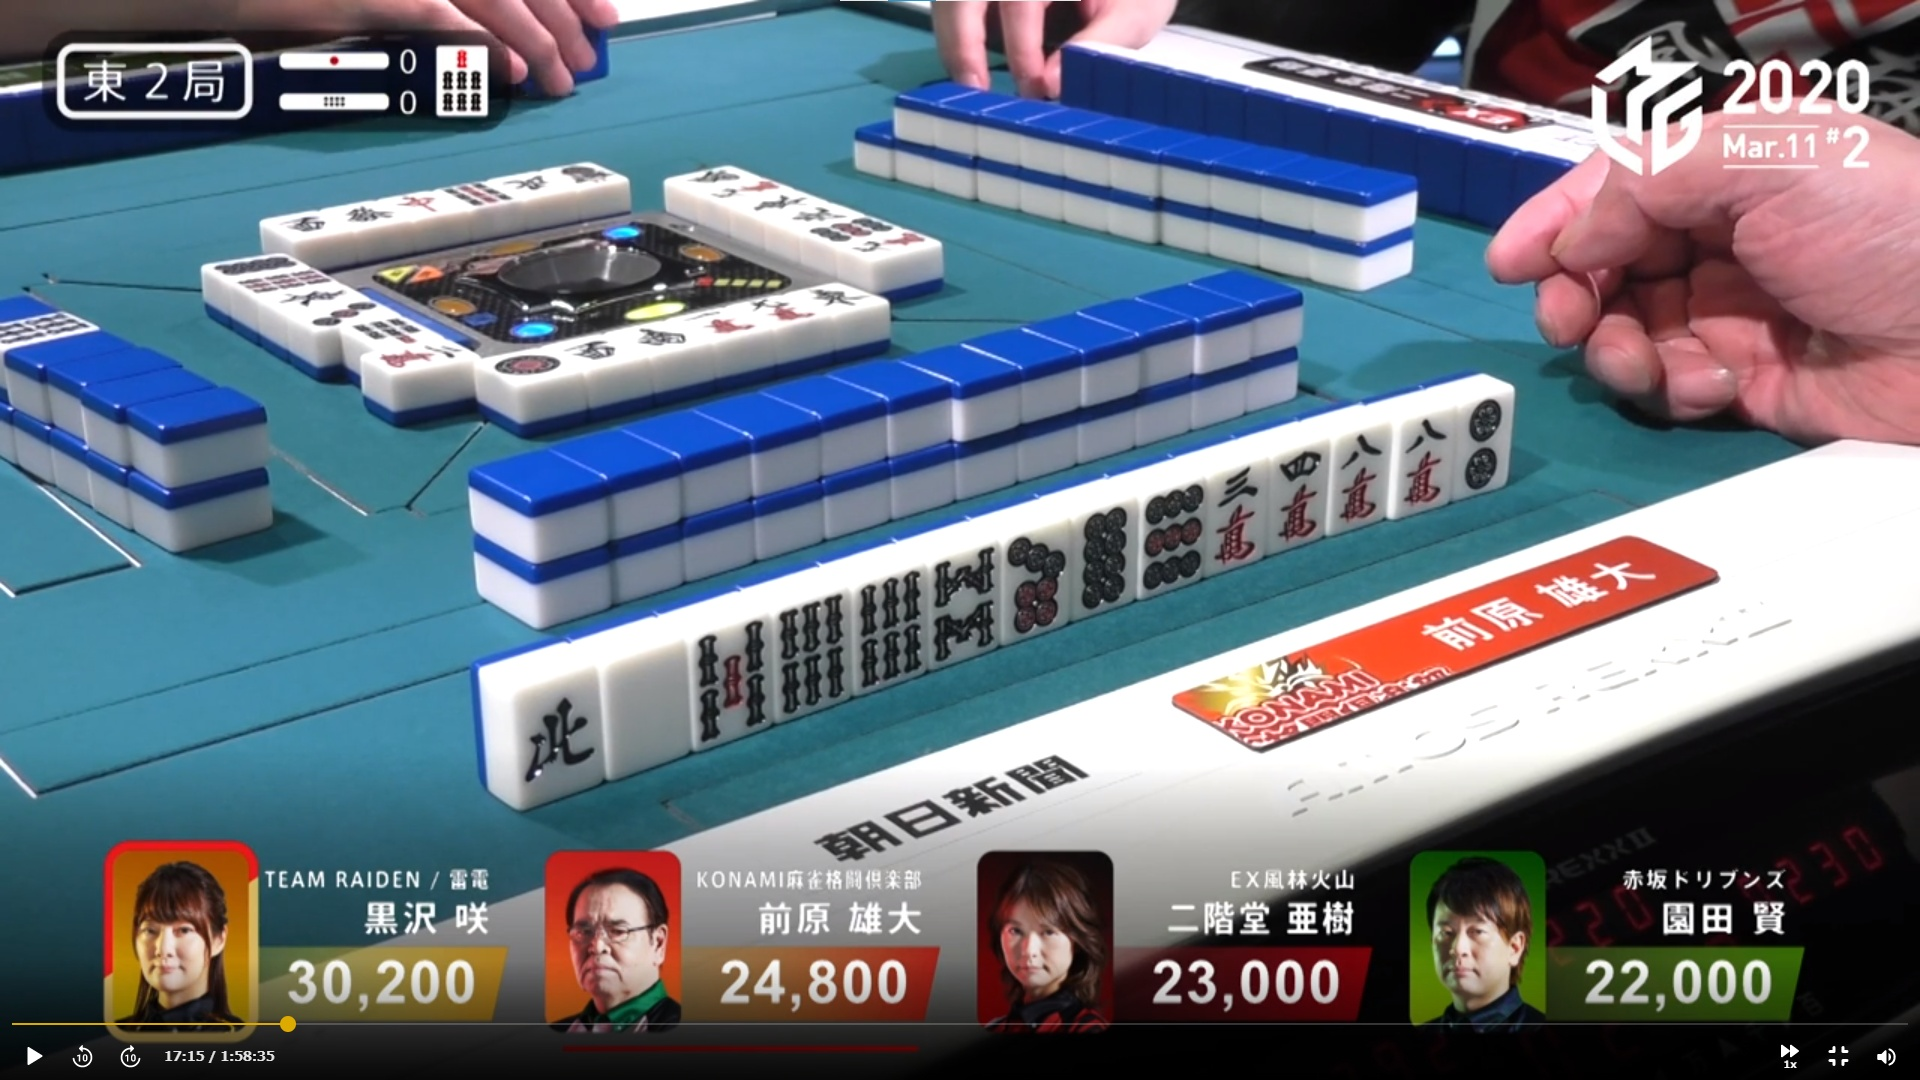2p: (1451, 375, 1507, 492)
3m: (1201, 440, 1266, 574)
4m: (1267, 417, 1321, 554)
5s: (686, 593, 771, 745)
6s: (849, 549, 924, 695), (771, 570, 847, 713)
7p: (998, 498, 1062, 636)
8m: (1328, 405, 1386, 531), (1393, 394, 1447, 516)
8p: (1065, 483, 1137, 620)
8s: (920, 524, 996, 663)
9p: (1137, 463, 1200, 596)
haku: (599, 621, 686, 767)
hand_ton_2: (51, 36, 265, 125)
pei: (487, 653, 593, 796)
round_0: (274, 88, 422, 120)
team_konami: (1167, 620, 1447, 756)
